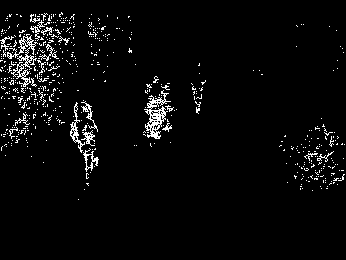person: (69, 100, 103, 183)
